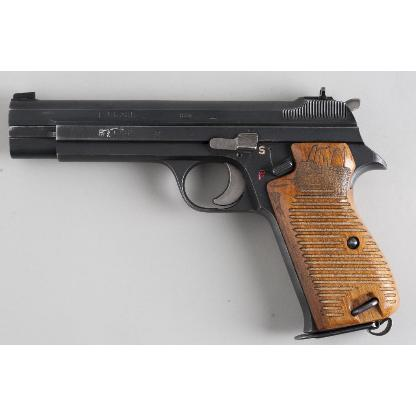gun: (8, 90, 400, 338)
